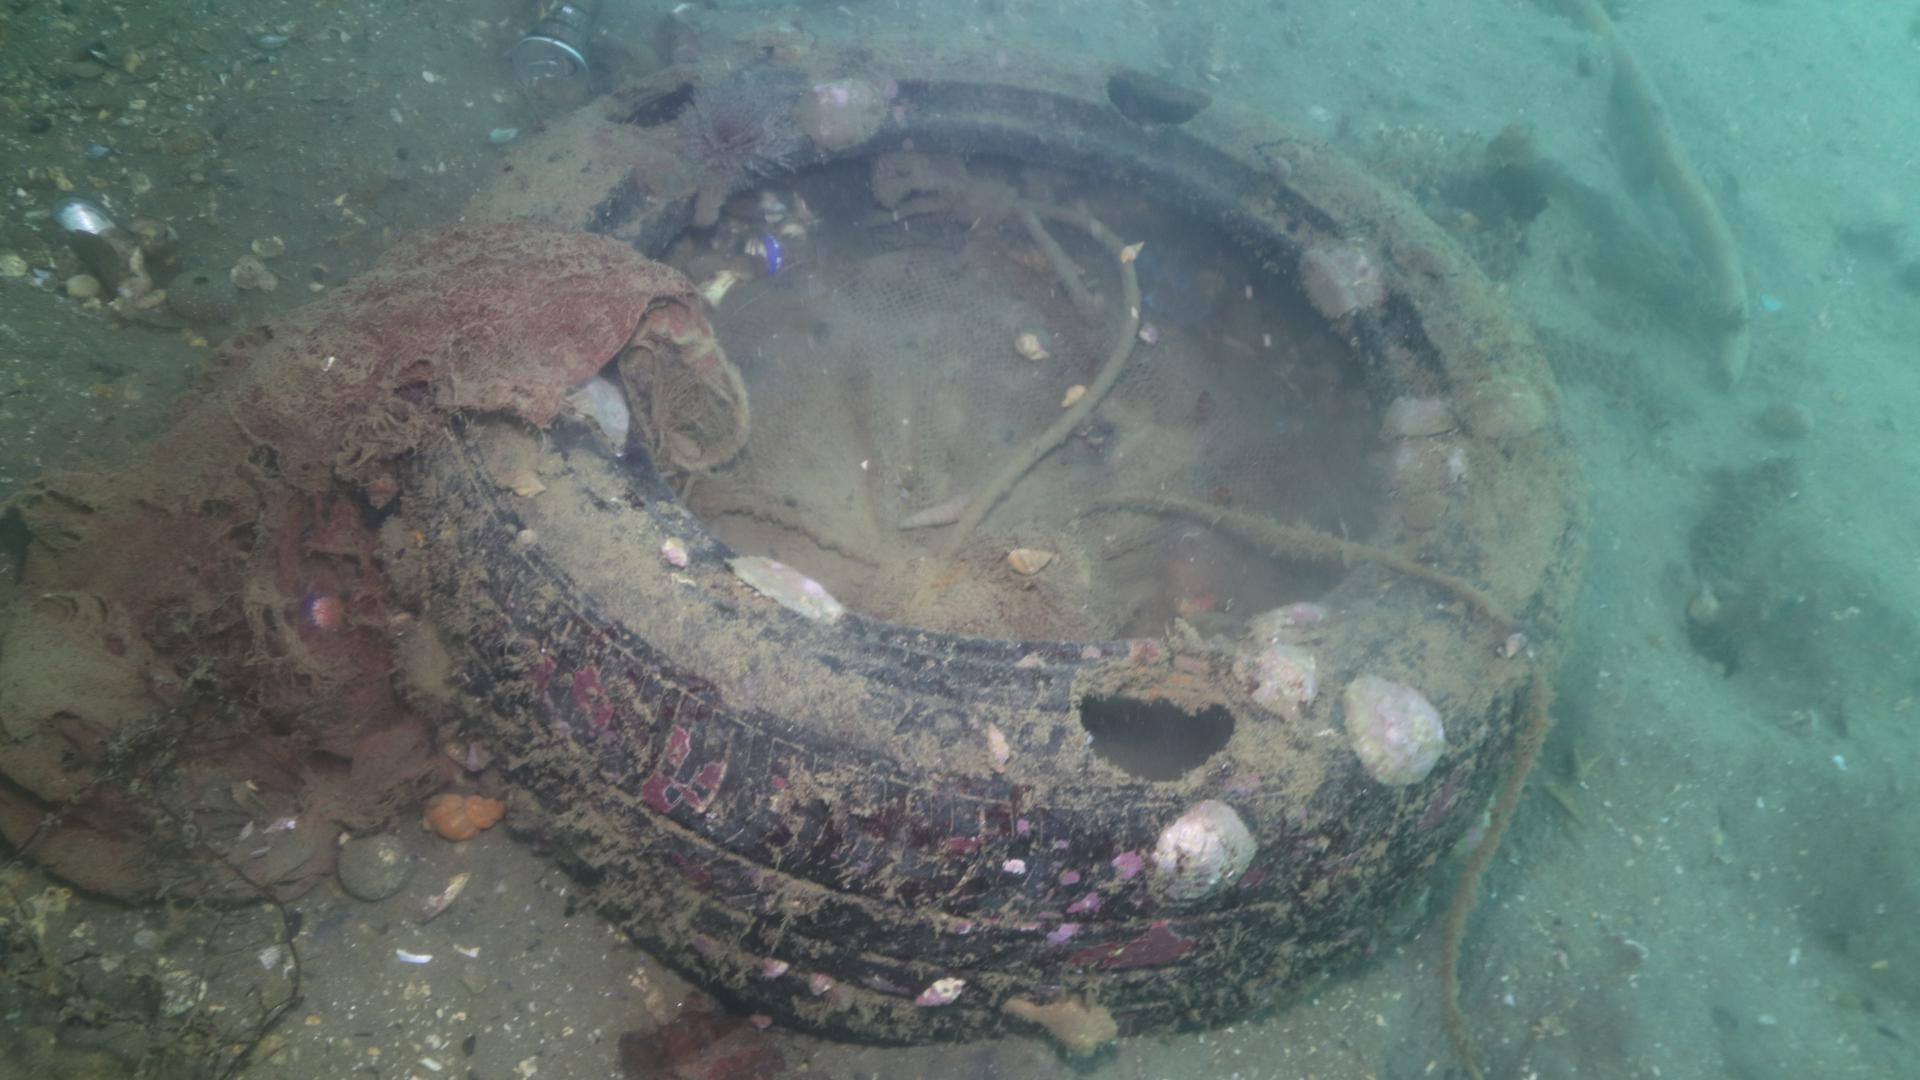rope: (1091, 487, 1553, 1080), (858, 196, 1145, 555)
tire: (396, 29, 1567, 1033)
